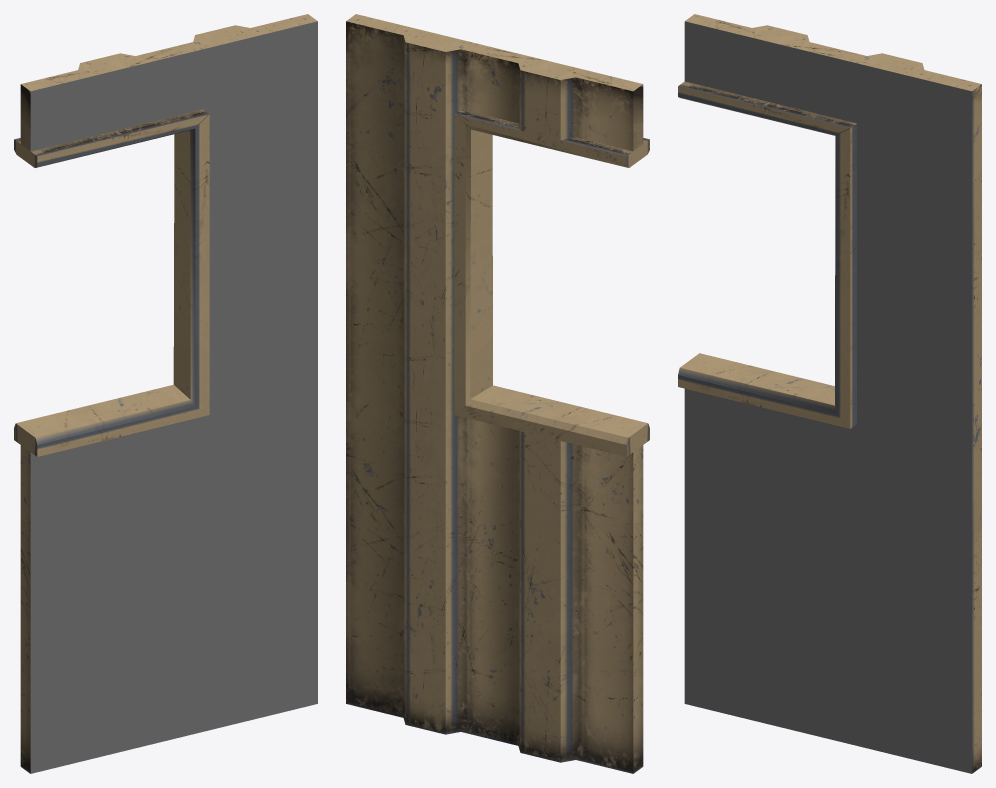
Rendered from CnWallWindowIntA1A.fbx.
3 renders of one model, left to right at view 1: azimuth 30°, elevation 25°; view 2: azimuth 150°, elevation 25°; view 3: azimuth 330°, elevation 25°, orthographic.
Visible parts, largest first — view 1: CnWallWindowIntA1A; view 2: CnWallWindowIntA1A; view 3: CnWallWindowIntA1A.
Part boxes in pixels (bbox=[...]): CnWallWindowIntA1A: bbox=[14, 14, 317, 773]; CnWallWindowIntA1A: bbox=[346, 14, 649, 773]; CnWallWindowIntA1A: bbox=[678, 14, 981, 773].
Bounding box in the file's own units: 100 × 227 × 14.
